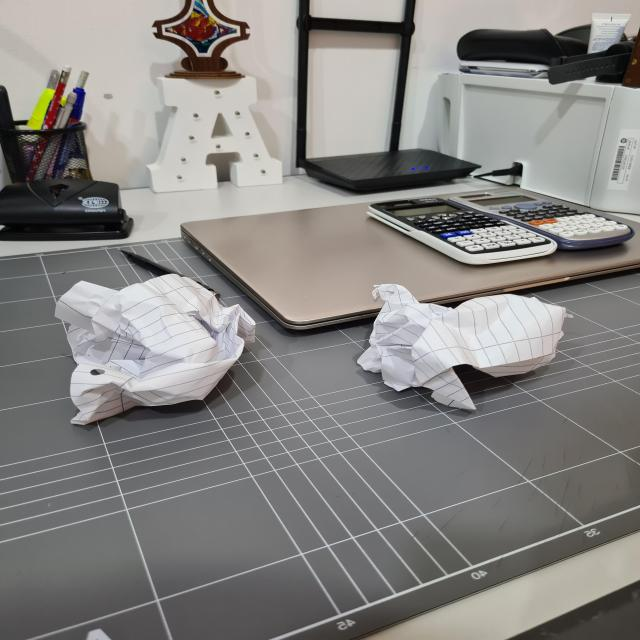paper: (58, 269, 254, 432), (352, 275, 566, 407)
